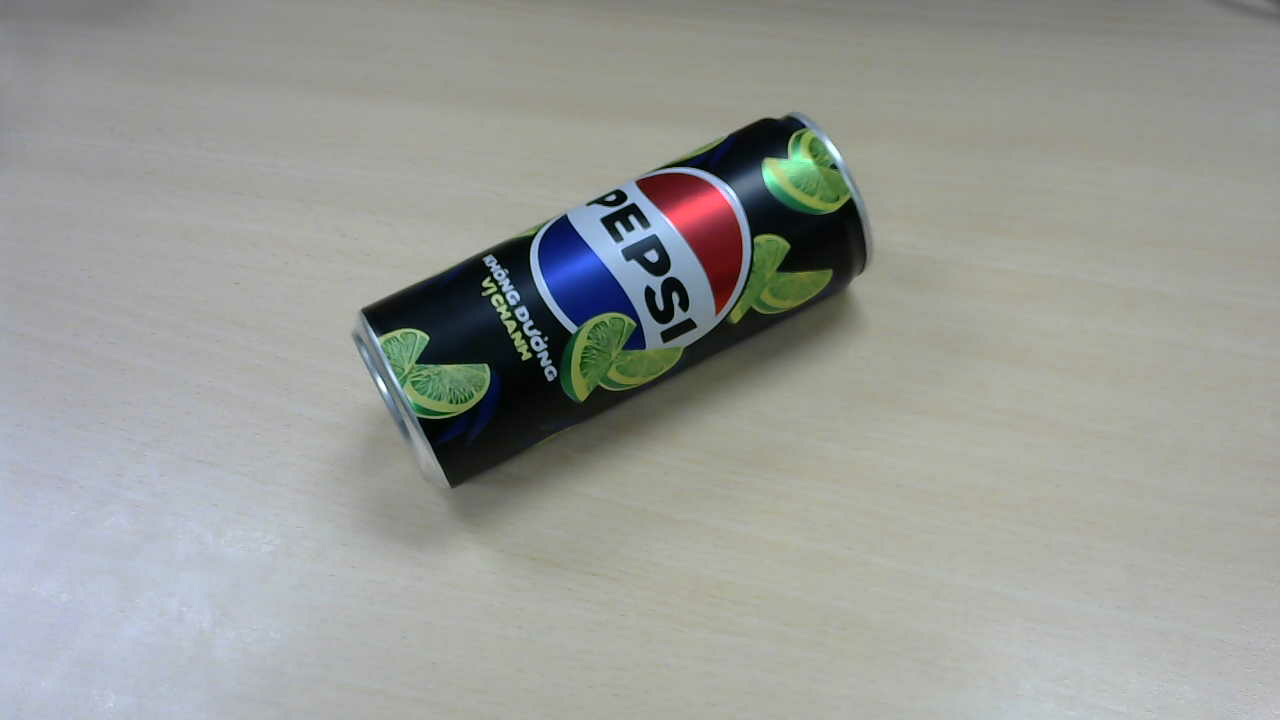Pepsi: (360, 117, 878, 496)
